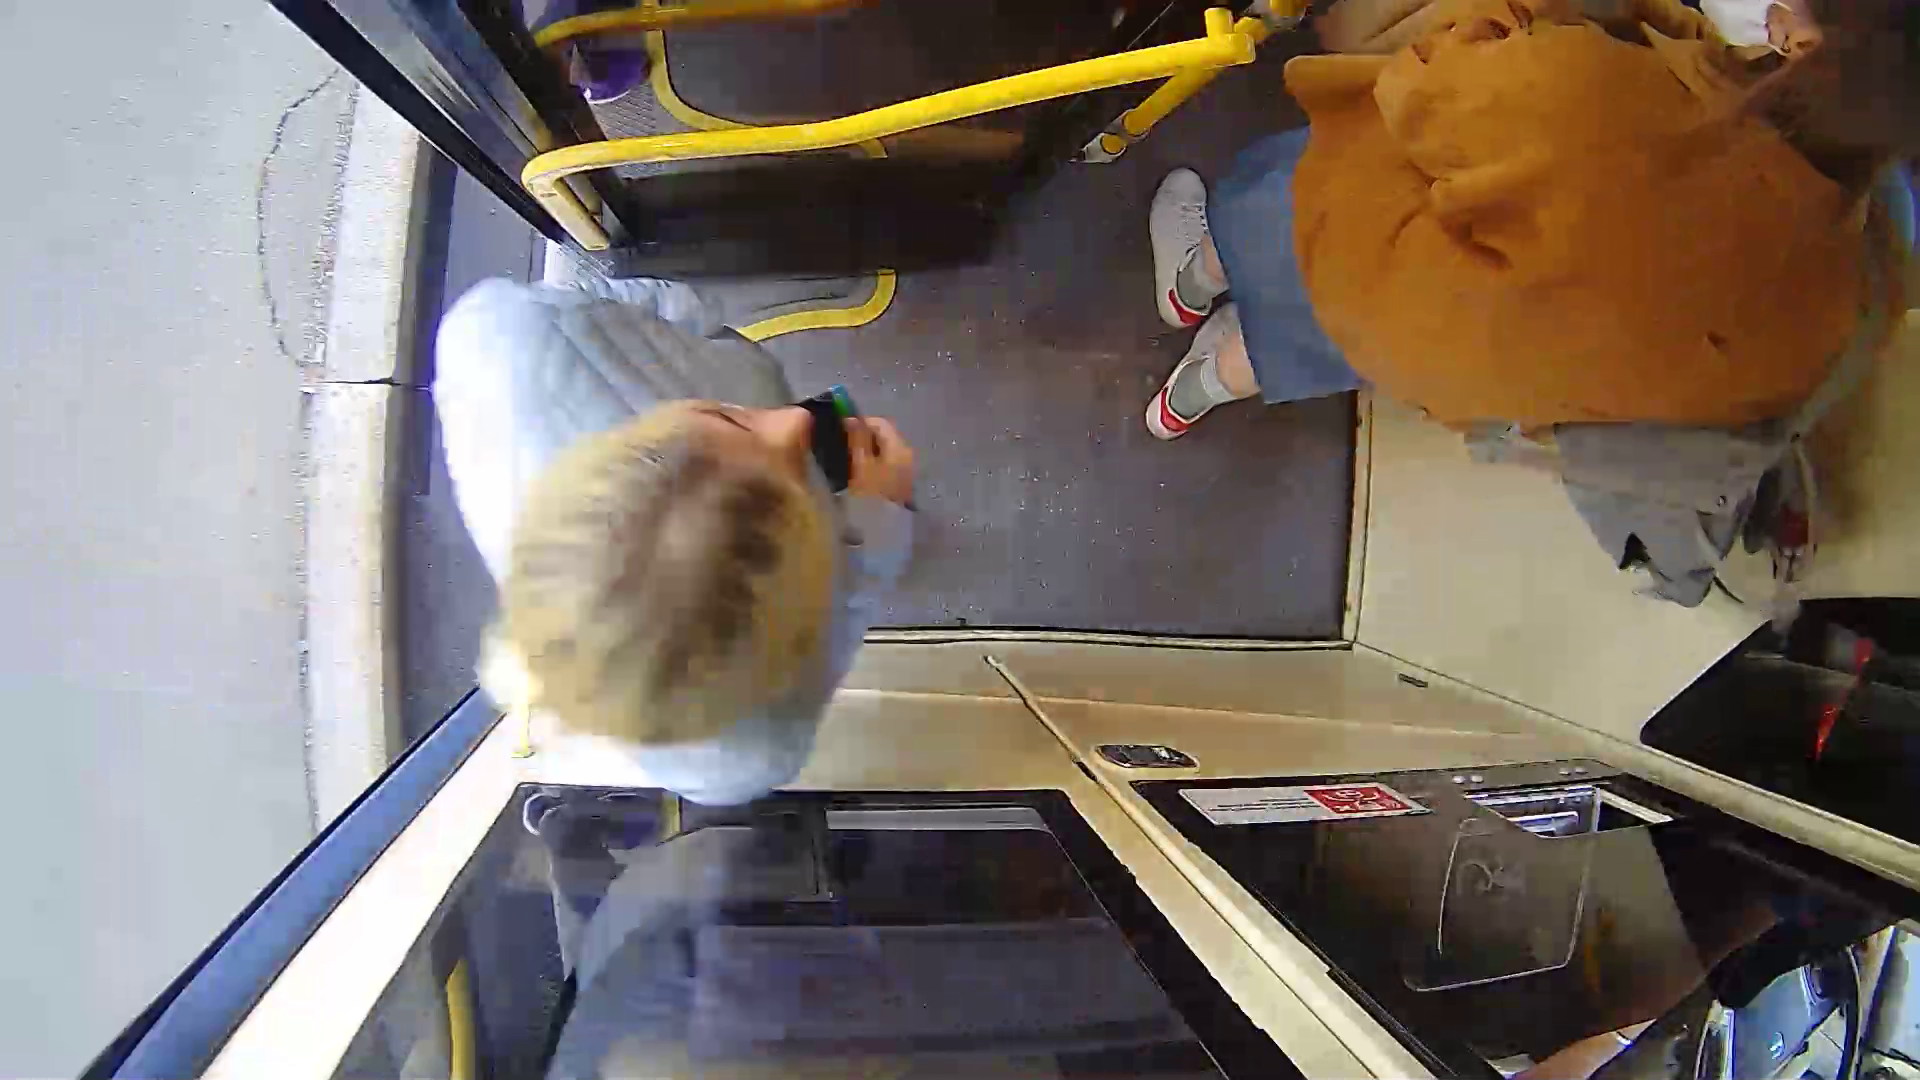person: (1159, 24, 1910, 436), (415, 304, 991, 797)
